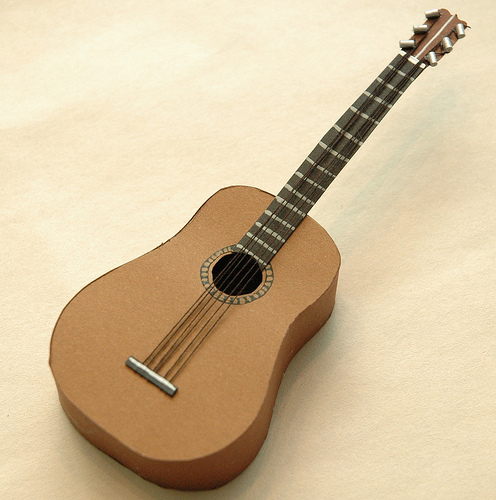guitar: (52, 7, 470, 492)
